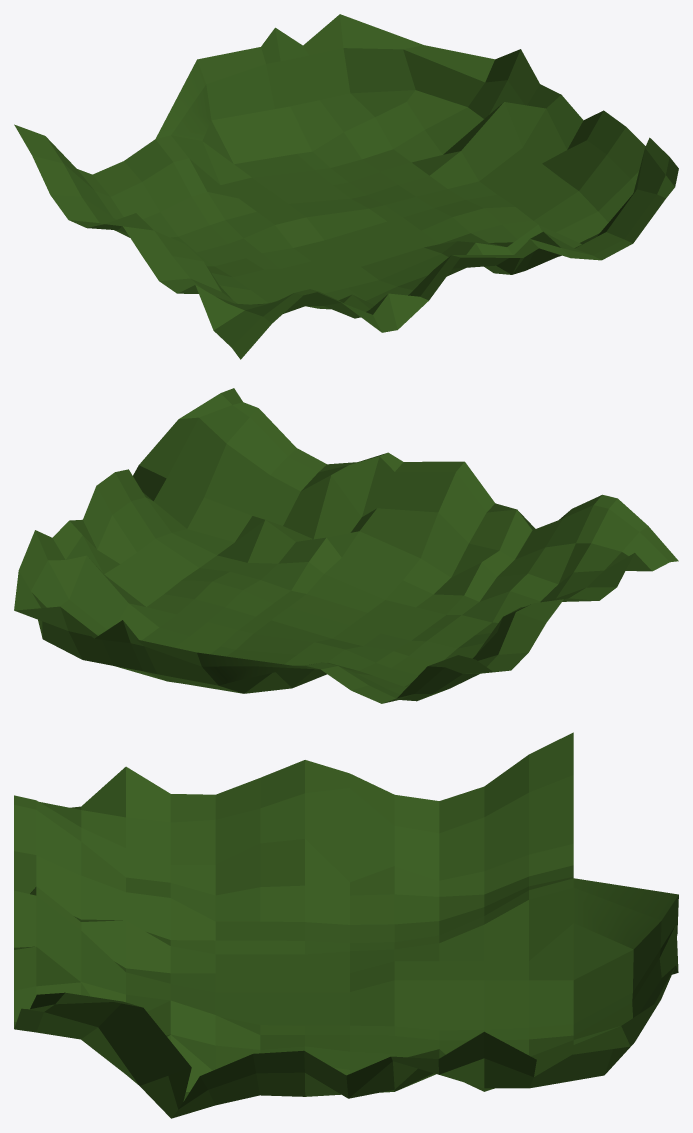
3 views of the same model, one above another, from view 1: azimuth 30°, elevation 25°; view 2: azimuth 150°, elevation 25°; view 3: azimuth 270°, elevation 25° (orthographic). The views are drawn at different scales.
Visible parts, largest first — view 1: pPlane1; view 2: pPlane1; view 3: pPlane1.
Part boxes in pixels (x1,y1,x2,y2): pPlane1: (14,14,678,359); pPlane1: (14,388,678,703); pPlane1: (14,732,678,1118).
Size of the model in its own units: 38748 by 8429 by 36488.
